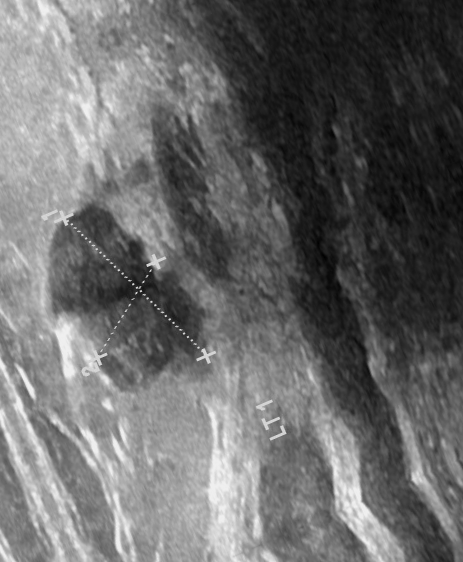Benign: (43, 210, 156, 327)
